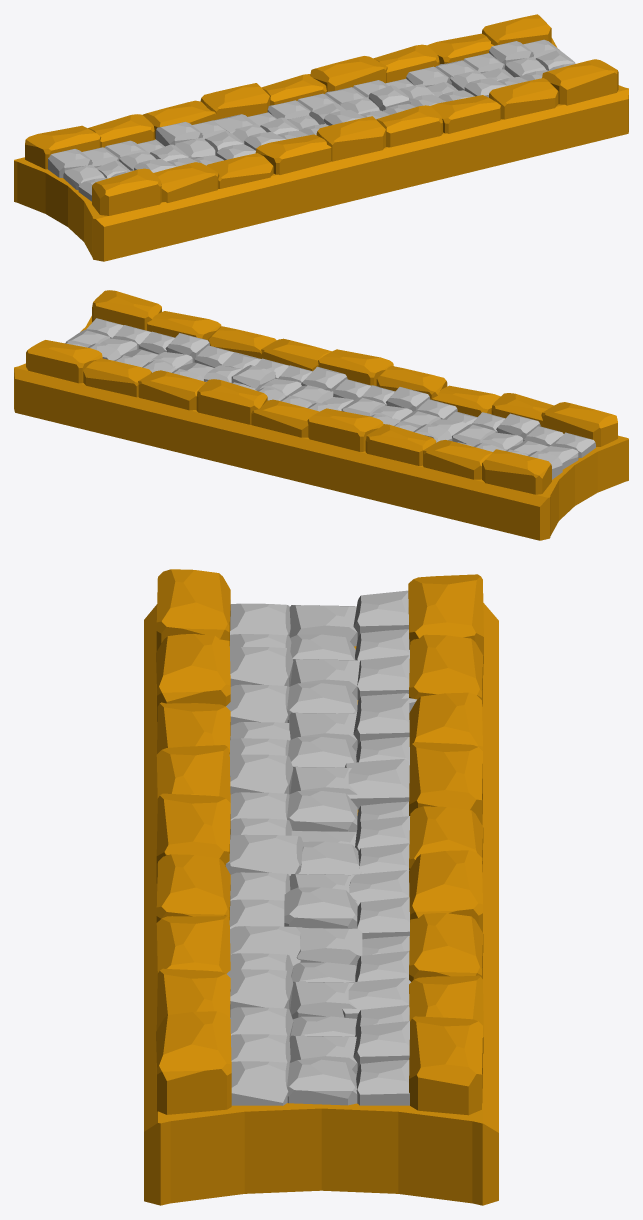
Rendered from roads.glb.
The picture shows the model from 3 angles, top to bottom: view 1: azimuth 30°, elevation 25°; view 2: azimuth 150°, elevation 25°; view 3: azimuth 270°, elevation 25°; orthographic projection. The views are drawn at different scales.
Parts seen in each view (by area): view 1: roads; view 2: roads; view 3: roads.
Part boxes in pixels (<box>): roads: <box>14,14,628,261</box>; roads: <box>14,290,628,540</box>; roads: <box>144,569,498,1205</box>.
Size of the model in its own units: 31.35 by 3.7 by 9.
